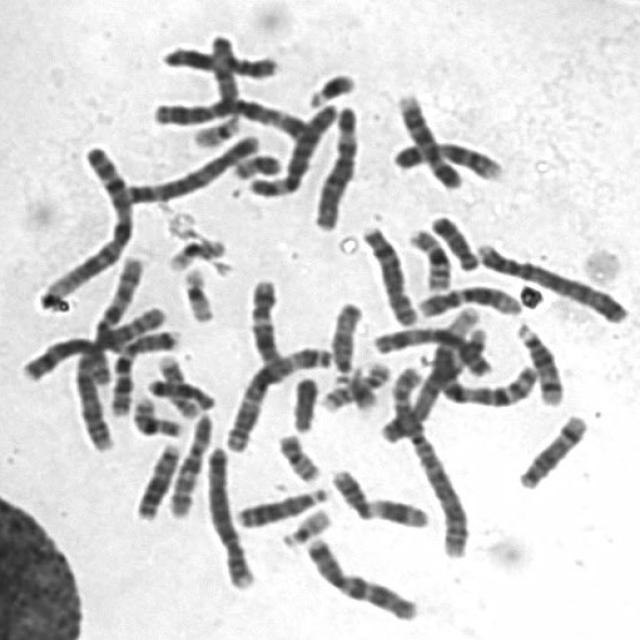A1: (29, 136, 138, 311), (414, 310, 544, 408)
A2: (383, 353, 475, 559), (66, 245, 152, 456)
A3: (217, 337, 336, 453), (143, 90, 314, 143)
B4: (467, 233, 630, 325), (198, 436, 259, 590)
B5: (372, 315, 491, 444), (114, 125, 264, 206)
C10: (89, 248, 159, 357), (162, 405, 216, 520)
C11: (322, 459, 433, 530), (154, 37, 282, 79)
C12: (240, 268, 290, 372), (411, 276, 526, 318)
C6: (238, 92, 343, 198), (304, 93, 364, 232)
C7: (297, 528, 423, 623), (104, 320, 185, 418)
C8: (353, 217, 422, 327), (13, 329, 115, 386)
C9: (388, 82, 467, 191), (384, 130, 508, 182)
D13: (228, 478, 332, 530), (126, 434, 186, 521)
D14: (510, 404, 591, 491), (508, 314, 568, 407)
D15: (200, 26, 243, 124), (322, 293, 367, 379)
E16: (400, 219, 454, 293), (123, 388, 188, 438)
E17: (313, 353, 395, 413), (148, 347, 202, 420)
E18: (422, 205, 482, 272), (139, 369, 219, 412)
F19: (173, 257, 219, 324), (159, 228, 229, 272)
F20: (270, 424, 324, 484), (226, 144, 284, 180)
G21: (298, 61, 361, 109), (347, 363, 382, 412)
G22: (274, 498, 334, 548), (183, 108, 245, 149)
X: (366, 316, 494, 378)
Y: (284, 366, 322, 434)
